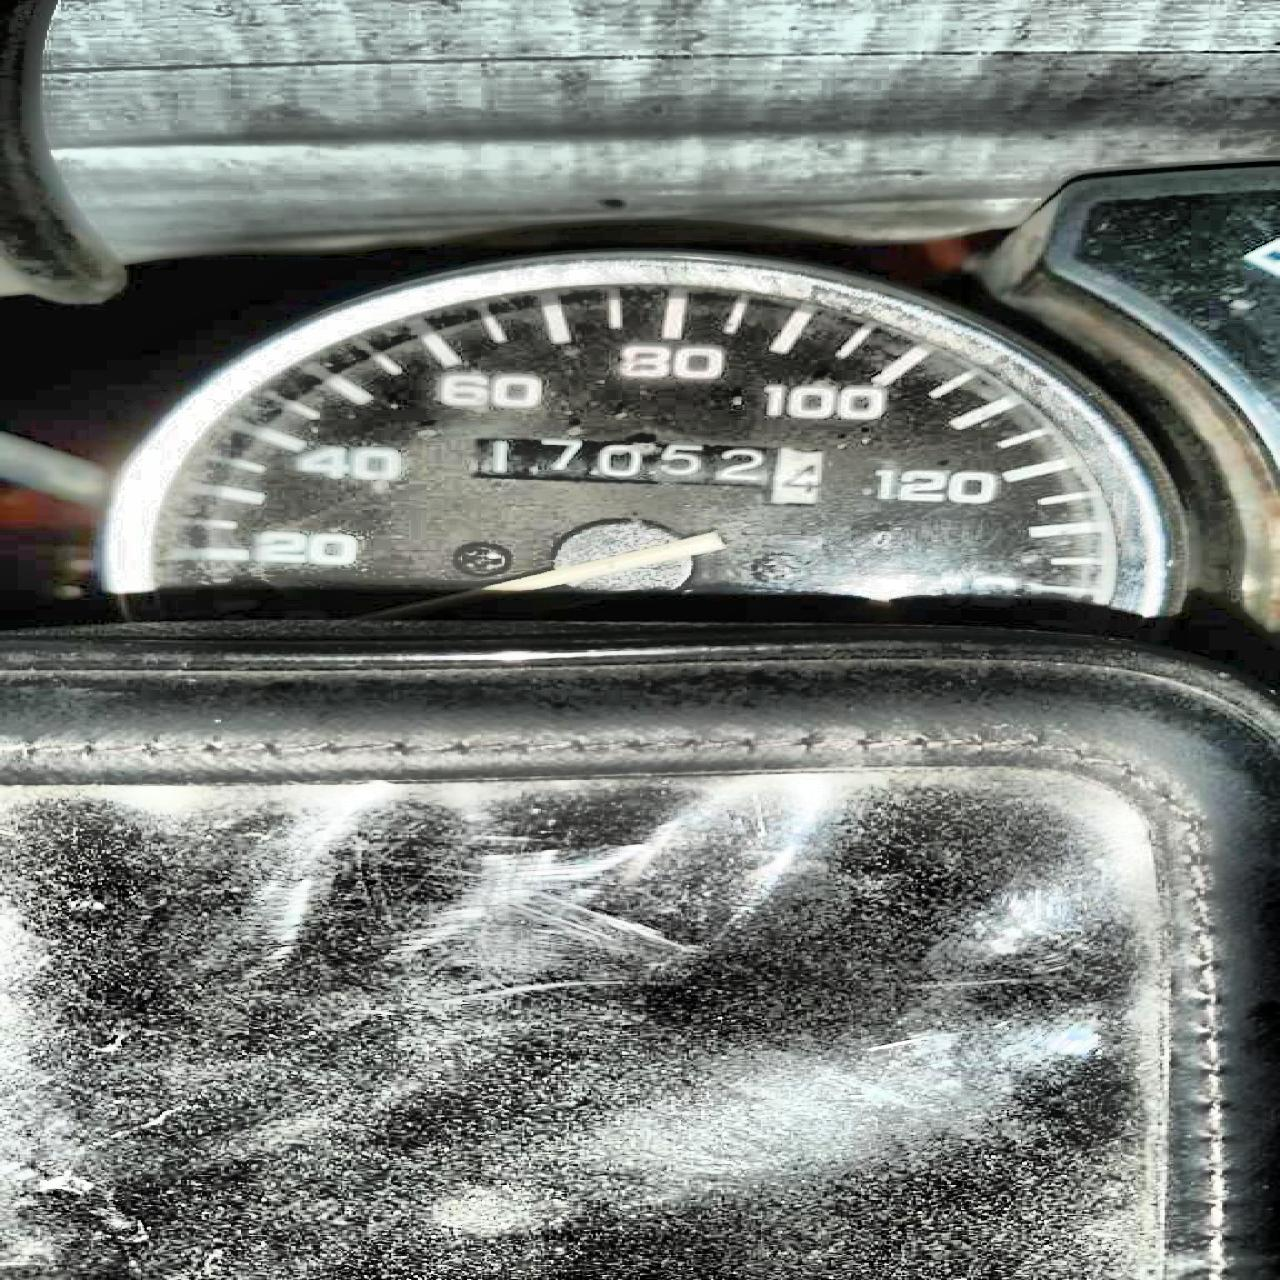0: (595, 444, 640, 475)
1: (491, 438, 506, 471)
2: (716, 448, 762, 481)
4: (778, 463, 818, 492)
5: (658, 440, 704, 476)
7: (538, 440, 580, 470)
odometer: (467, 435, 824, 506)
